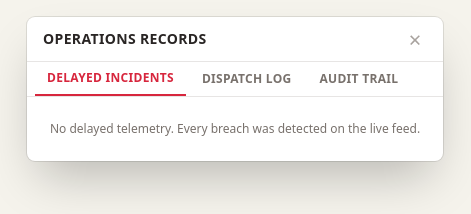
it: OperationsDrawer › says when nothing has been recorded yet
Click the tab "Audit trail" at (359, 79), box [308,62,410,96]
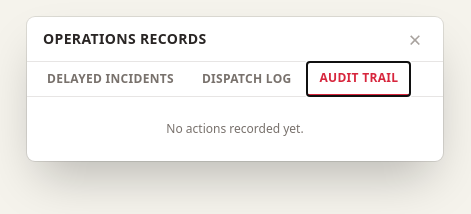
Result: the text "No actions recorded yet." is shown at [166,120,304,137]
